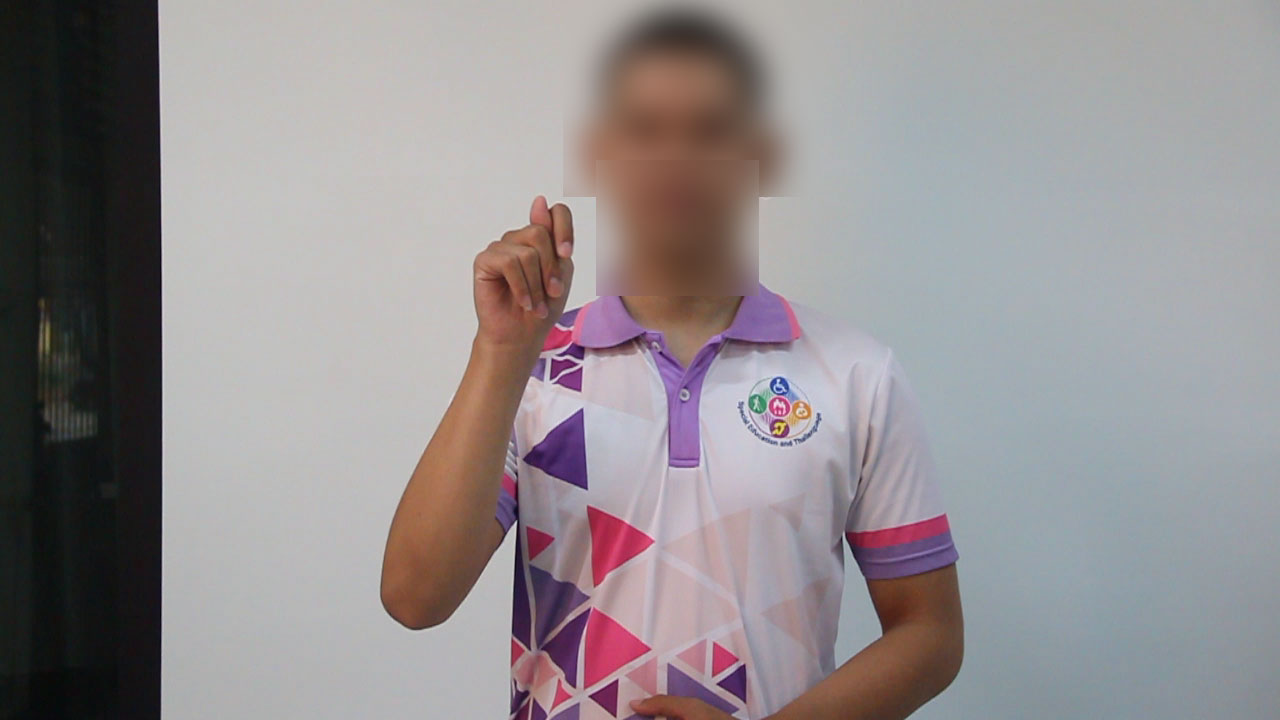tor: (450, 186, 608, 381)
